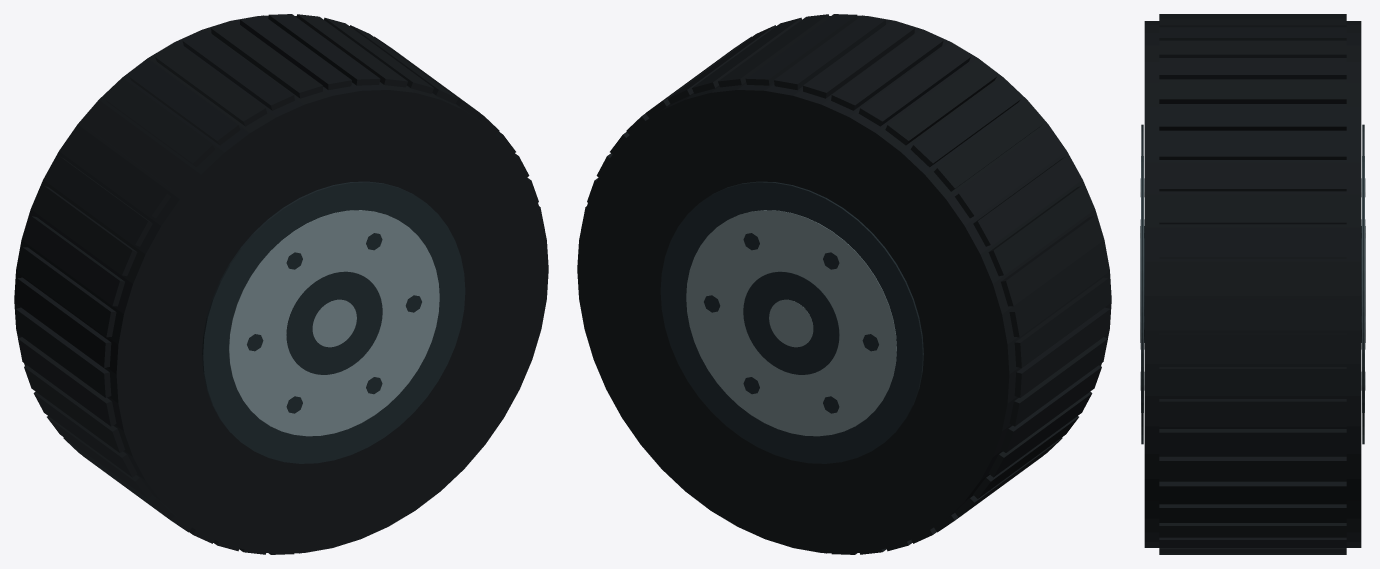
File: rear_left_wheel.dae
3 views of the same model, side by side, from view 1: azimuth 30°, elevation 25°; view 2: azimuth 150°, elevation 25°; view 3: azimuth 270°, elevation 25° (orthographic). The views are drawn at different scales.
Visible parts, largest first — view 1: part; view 2: part; view 3: part.
Part boxes in pixels (box(x1,y1,x2,y2)): part: box(14, 14, 548, 554); part: box(577, 14, 1111, 554); part: box(1140, 14, 1365, 554).
Bounding box in the file's own units: 0.24 × 0.0999 × 0.24.
